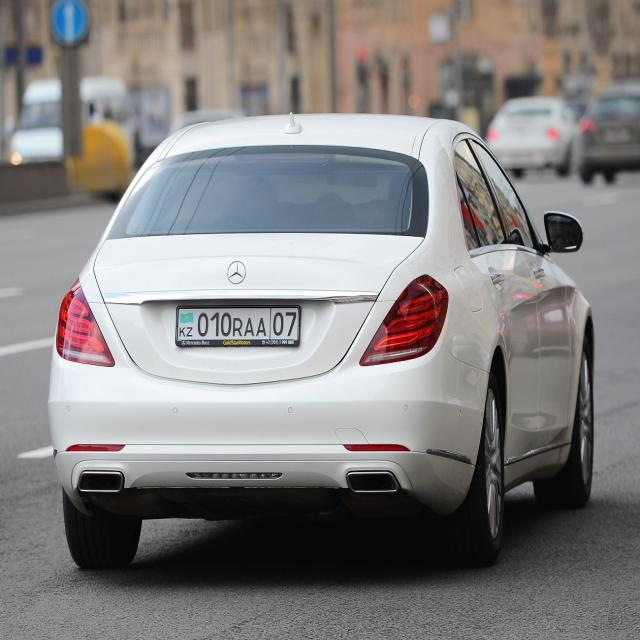car: (47, 111, 595, 569), (484, 96, 580, 177), (577, 84, 639, 184)
license: (174, 304, 301, 347)
